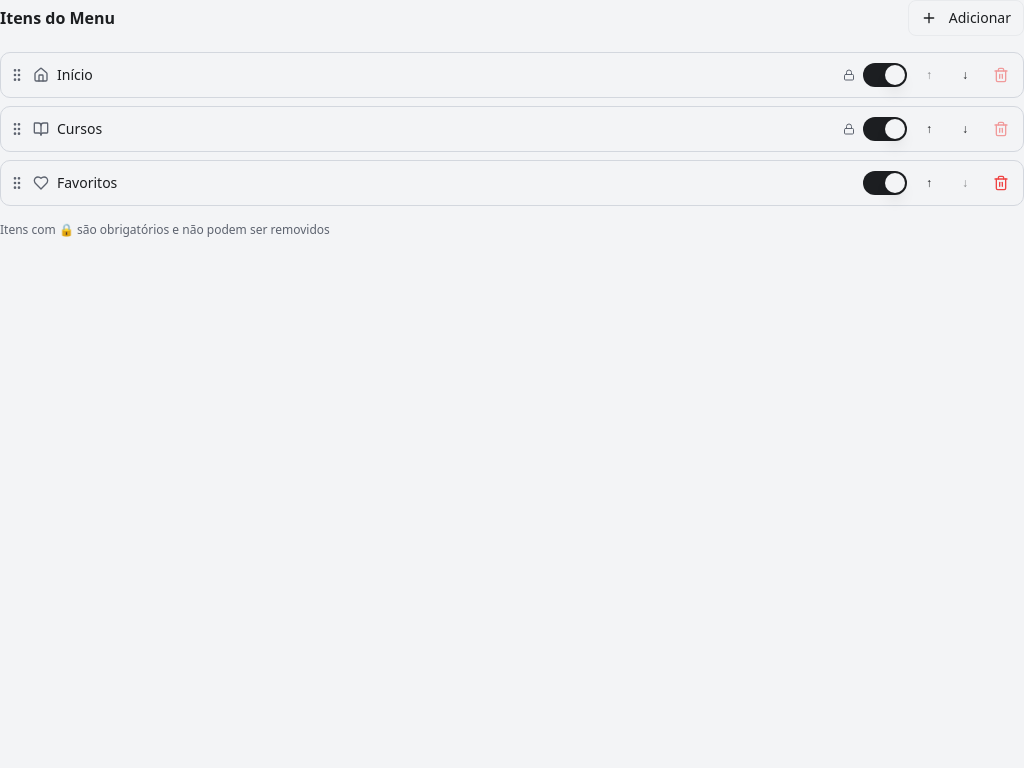
Test: MenuEditor › Add Item Dialog › should show icon select in dialog
Step 1. Click the button "Adicionar" → (966, 18), box [908,0,1023,36]
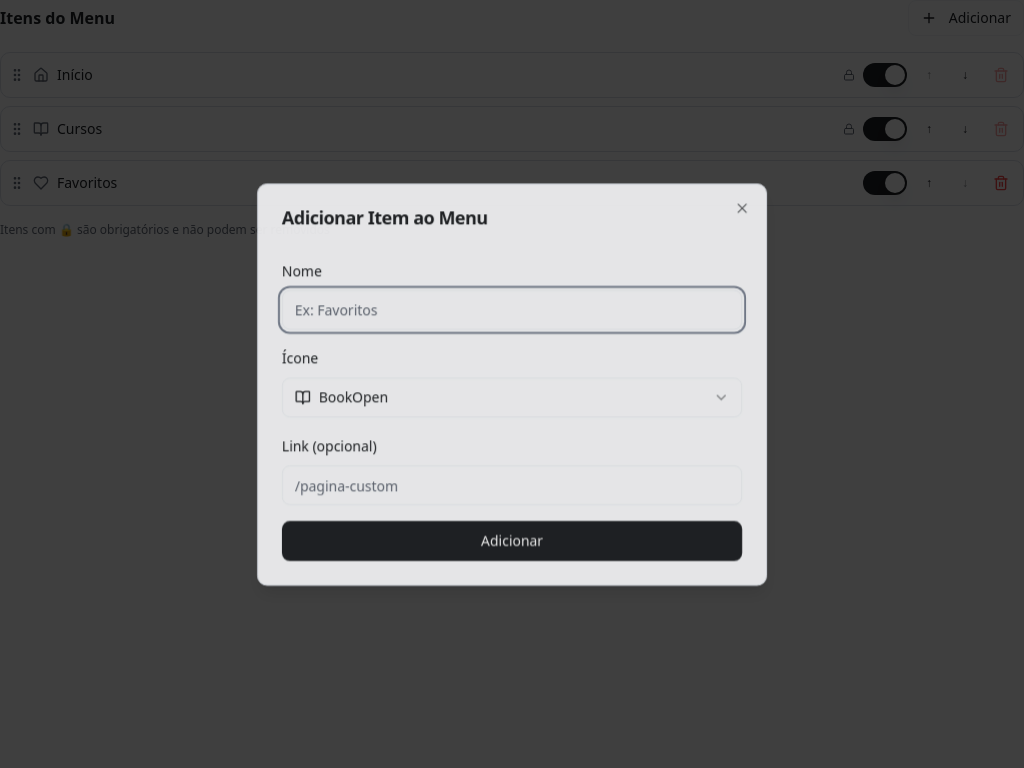
expect the text "Ícone" is shown: met, box [281,348,318,367]
